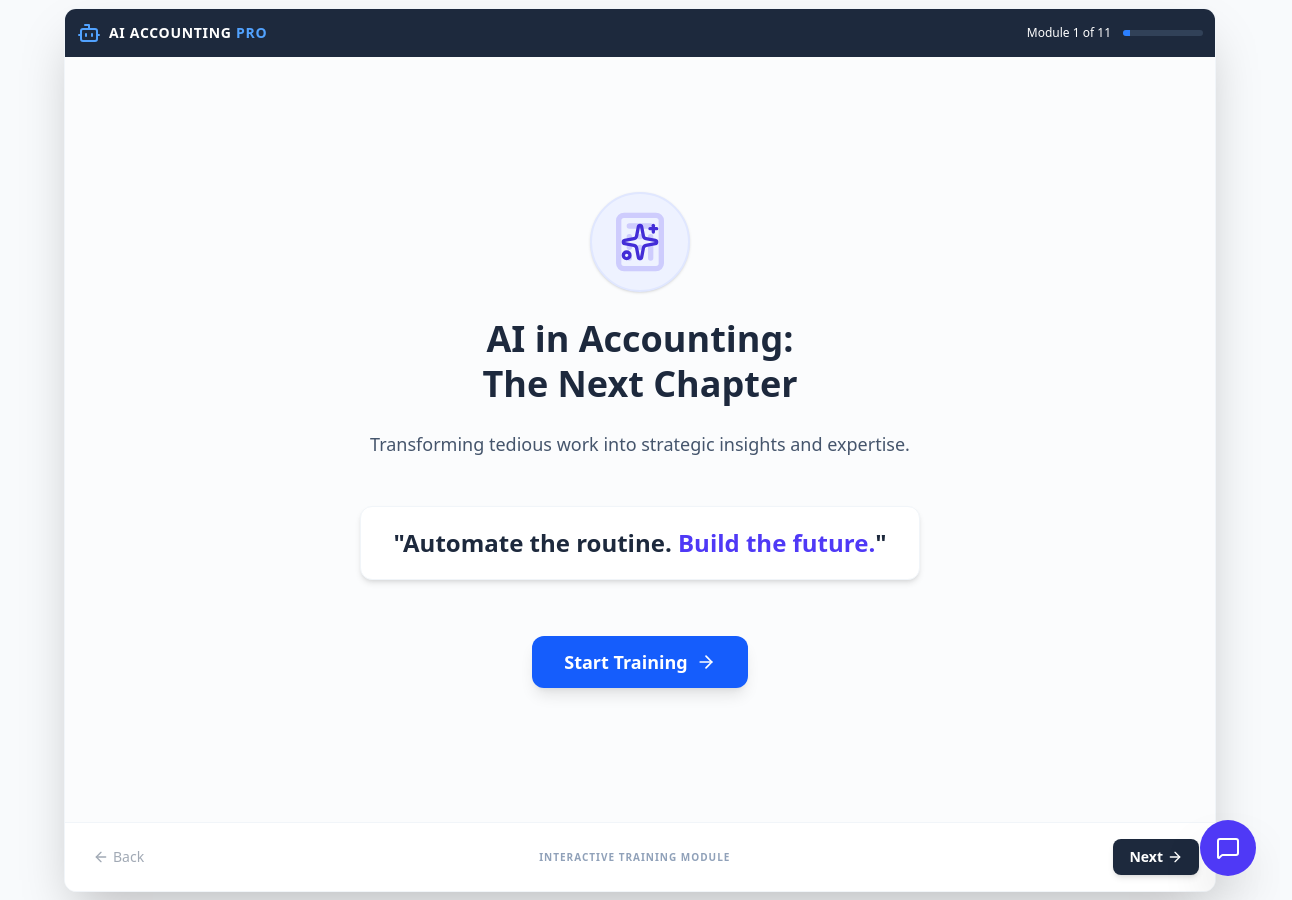
Test: Chatbot Component › sends message when user presses Enter
This screenshot has width=1292, height=900.
Click the button named "Toggle Chatbot" at (1228, 848), box [1200,820,1256,876]
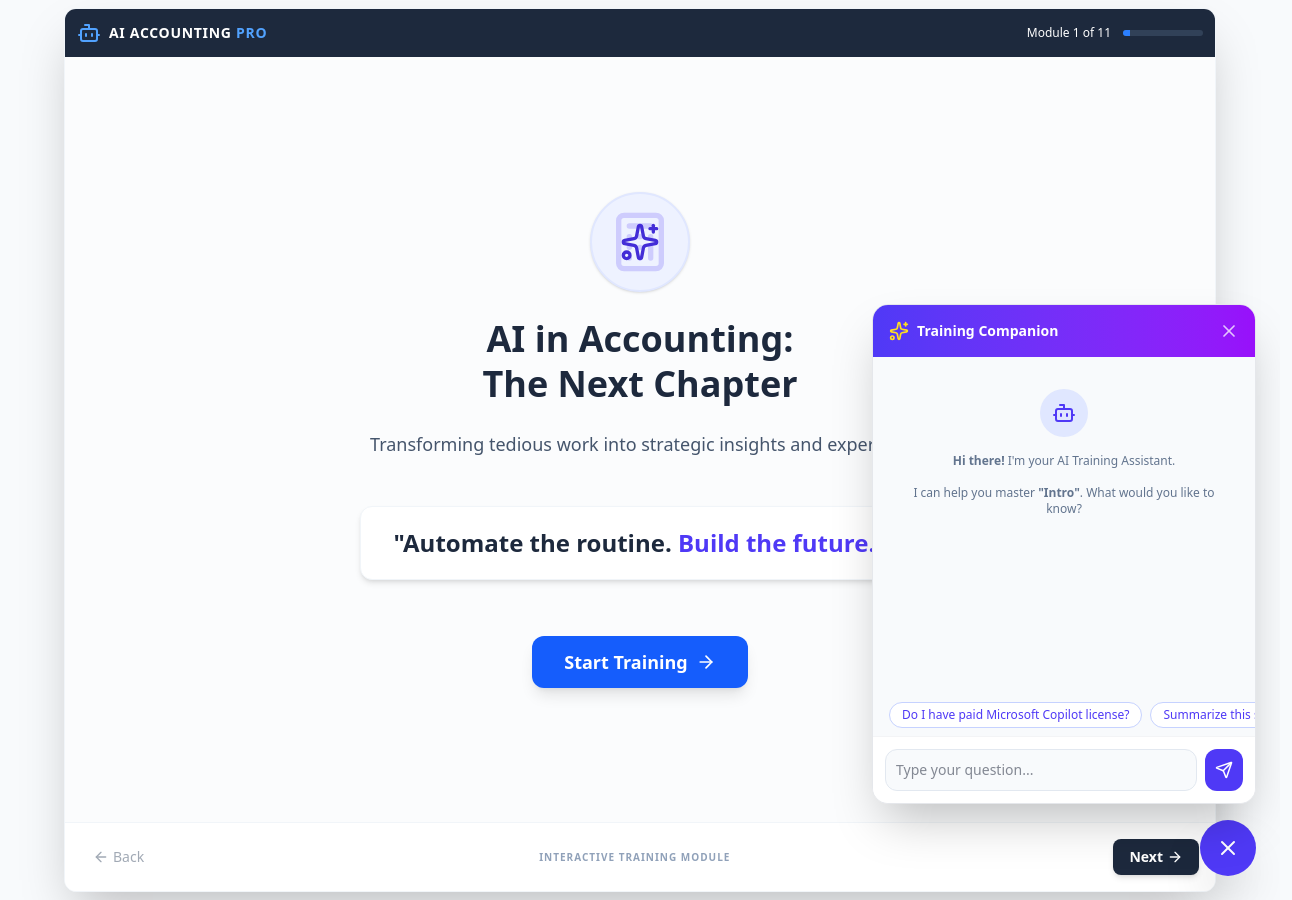
Result: the field with placeholder "Type your question..." is shown
Type "Test message" into the field with placeholder "Type your question..." at (1041, 770), box [885,749,1197,791]
Then press Enter
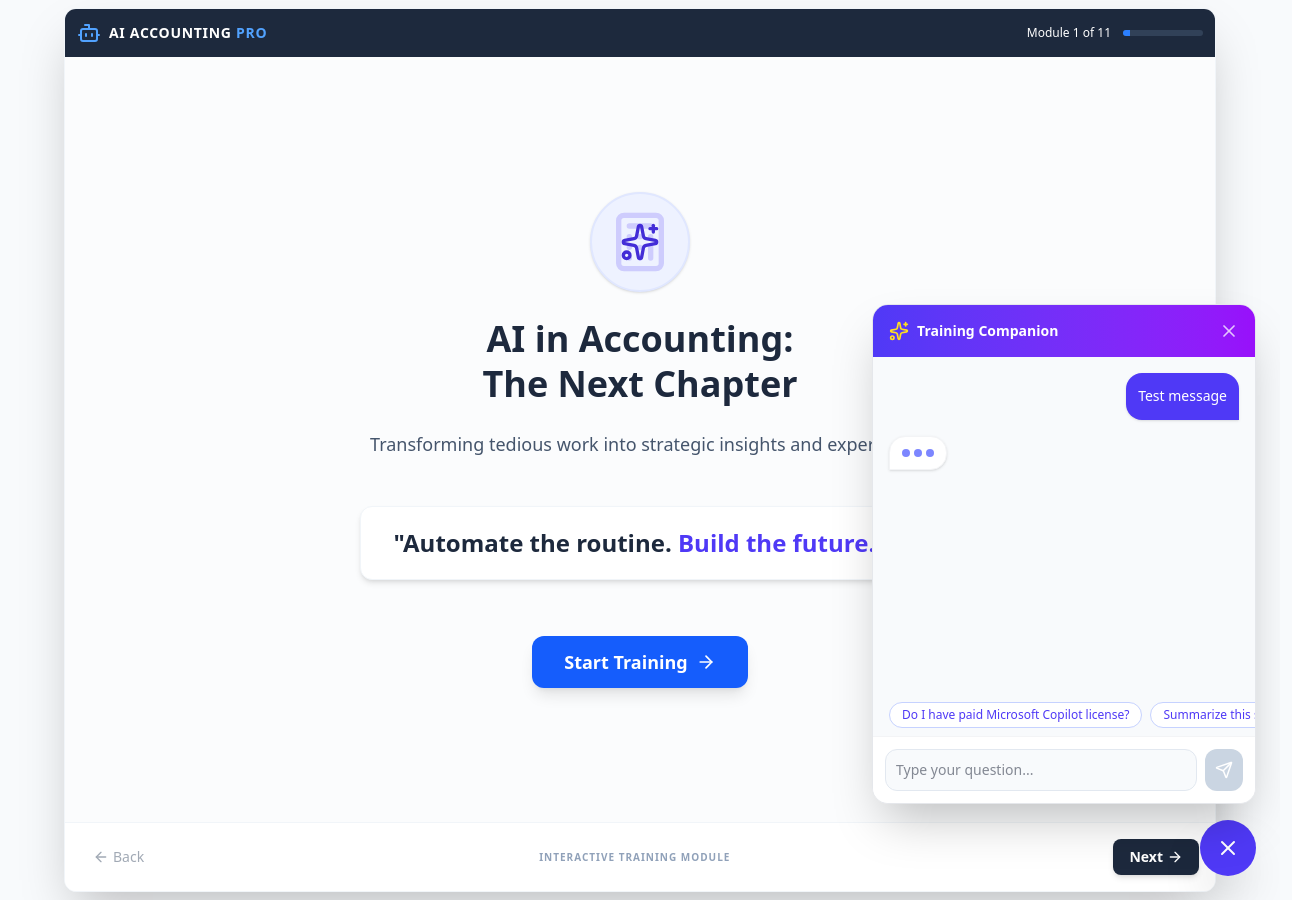
Result: the text "Test message" is shown at [1138,385,1227,408]
